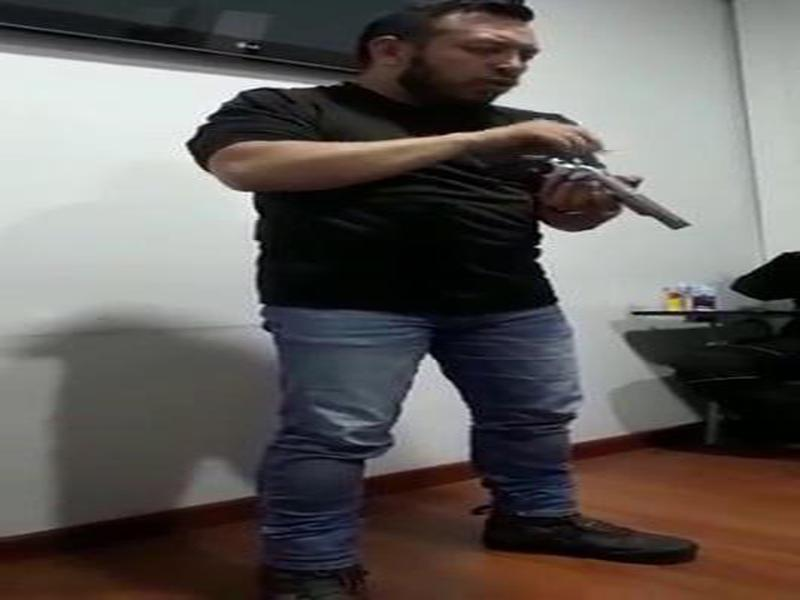Revolver: (483, 135, 713, 258)
